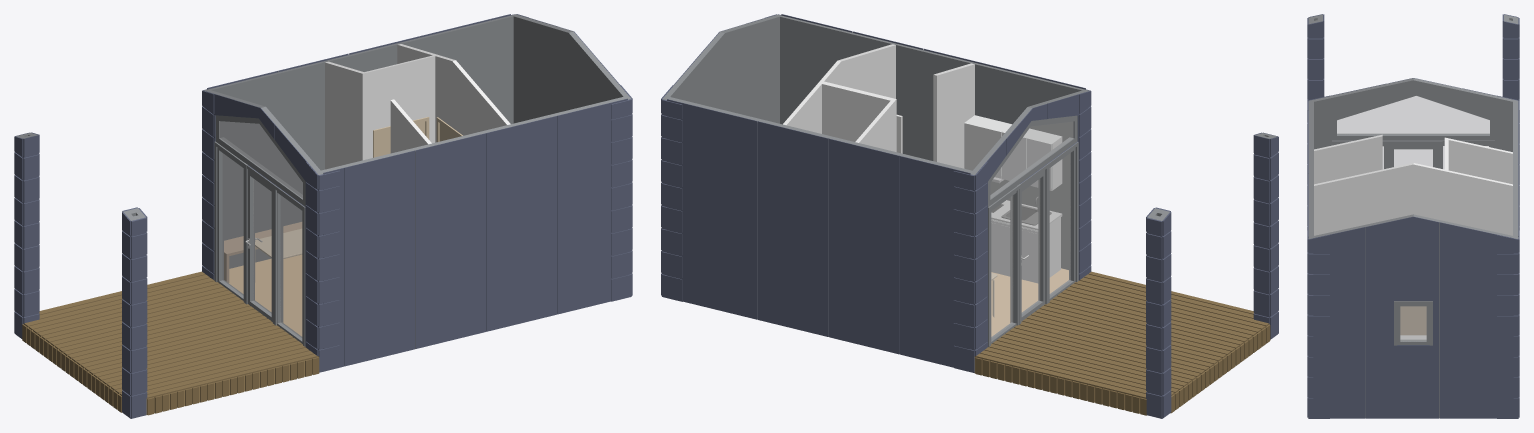
Rendered from Pirtys (3,2x8,0m) su terasa.fbx.
3 views of the same model, side by side, from view 1: azimuth 30°, elevation 25°; view 2: azimuth 150°, elevation 25°; view 3: azimuth 270°, elevation 25° (orthographic). The views are drawn at different scales.
Parts seen in each view (by area): view 1: IfcWallStandardCase/Basic Wall:Sandwich - isorines sienos 8. (×4), IfcBuildingElementProxy/Kampai Kvadratiniai - line based1:M. (×6), IfcPlate/System Panel:Sandwich užbaigimas Multisplit:3478437, IfcPlate/System Panel:Sandwich užbaigimas Multisplit:3478439, IfcPlate/System Panel:Sandwich užbaigimas Multisplit:3478441, IfcPlate/System Panel:Sandwich užbaigimas Multisplit:3478434, IfcWallStandardCase/Basic Wall:Sandwich - vidines sienos 60. (×2), IfcWindow/Langai (Akrusta):800x2100x80:3404889, IfcDoor/Durys išorinės:800x2100x80 (kairinės):3458927, IfcWindow/Langai (Akrusta):800x2100x80:3433472, IfcBuildingElementProxy/Kampai Kvadratiniai - line based1:Mu, IfcWallStandardCase/Basic Wall:Sandwich - vidines sienos 60 (+38 smaller); view 2: IfcWallStandardCase/Basic Wall:Sandwich - isorines sienos 8. (×4), IfcBuildingElementProxy/Kampai Kvadratiniai - line based1:M. (×7), IfcPlate/System Panel:Sandwich užbaigimas Multisplit:3478478, IfcPlate/System Panel:Sandwich užbaigimas Multisplit:3478476, IfcPlate/System Panel:Sandwich užbaigimas Multisplit:3478474, IfcPlate/System Panel:Sandwich užbaigimas Multisplit:3478471, IfcWindow/Langai (Akrusta):800x2100x80:3404889, IfcWindow/Langai (Akrusta):800x2100x80:3433472, IfcDoor/Durys išorinės:800x2100x80 (kairinės):3458927, IfcWallStandardCase/Basic Wall:Sandwich - vidines sienos 60. (×2), IfcWallStandardCase/Basic Wall:Sandwich - vidines sienos 60, IfcWindow/langas trapecija:langas trapecija:3435326 (+41 smaller); view 3: IfcPlate/System Panel:Sandwich užbaigimas Multisplit:3478457, IfcPlate/System Panel:Sandwich užbaigimas Multisplit:3478454, IfcBuildingElementProxy/Kampai Kvadratiniai - line based1:M. (×6), IfcWallStandardCase/Basic Wall:Sandwich - vidines sienos 60, IfcWallStandardCase/Basic Wall:Sandwich - isorines sienos 8. (×4), IfcPlate/System Panel:Sandwich užbaigimas Multisplit:3478459, IfcWindow/langas trapecija:langas trapecija:3435326, IfcWallStandardCase/Basic Wall:Sandwich - vidines sienos 60m, IfcWallStandardCase/Basic Wall:Sandwich - vidines sienos 60., IfcWindow/Langai (Akrusta):500x700x80 2:3404482, IfcDoor/Durys išorinės:800x2100x80 (kairinės):3458927, IfcDoor/Durys vidinės:800x2100 x 120 (dešininės):3461127 (+2 smaller).
Part boxes in pixels (x1,y1,x2,y2): IfcWallStandardCase/Basic Wall:Sandwich - isorines sienos 8. (×4): (204,14,630,348); IfcBuildingElementProxy/Kampai Kvadratiniai - line based1:M. (×6): (14,90,632,418); IfcPlate/System Panel:Sandwich užbaigimas Multisplit:3478437: (486,116,557,331); IfcPlate/System Panel:Sandwich užbaigimas Multisplit:3478439: (415,133,486,348); IfcPlate/System Panel:Sandwich užbaigimas Multisplit:3478441: (344,150,414,366); IfcPlate/System Panel:Sandwich užbaigimas Multisplit:3478434: (557,98,627,314); IfcWallStandardCase/Basic Wall:Sandwich - vidines sienos 60. (×2): (325,55,435,169); IfcWindow/Langai (Akrusta):800x2100x80:3404889: (214,141,247,304); IfcDoor/Durys išorinės:800x2100x80 (kairinės):3458927: (243,162,283,325); IfcWindow/Langai (Akrusta):800x2100x80:3433472: (272,184,305,346); IfcBuildingElementProxy/Kampai Kvadratiniai - line based1:Mu: (318,170,339,372); IfcWallStandardCase/Basic Wall:Sandwich - vidines sienos 60: (397,44,510,142); IfcWallStandardCase/Basic Wall:Sandwich - isorines sienos 8. (×4): (662,14,1089,336); IfcBuildingElementProxy/Kampai Kvadratiniai - line based1:M. (×7): (661,99,1278,418); IfcPlate/System Panel:Sandwich užbaigimas Multisplit:3478478: (686,104,757,319); IfcPlate/System Panel:Sandwich užbaigimas Multisplit:3478476: (758,121,828,336); IfcPlate/System Panel:Sandwich užbaigimas Multisplit:3478474: (829,138,899,354); IfcPlate/System Panel:Sandwich užbaigimas Multisplit:3478471: (900,156,970,371); IfcWindow/Langai (Akrusta):800x2100x80:3404889: (988,184,1021,347); IfcWindow/Langai (Akrusta):800x2100x80:3433472: (1045,142,1078,304); IfcDoor/Durys išorinės:800x2100x80 (kairinės):3458927: (1010,163,1049,325); IfcWallStandardCase/Basic Wall:Sandwich - vidines sienos 60. (×2): (822,81,896,151); IfcWallStandardCase/Basic Wall:Sandwich - vidines sienos 60: (783,44,895,133); IfcWindow/langas trapecija:langas trapecija:3435326: (988,115,1077,206); IfcPlate/System Panel:Sandwich užbaigimas Multisplit:3478457: (1365,216,1439,418); IfcPlate/System Panel:Sandwich užbaigimas Multisplit:3478454: (1440,222,1513,418); IfcBuildingElementProxy/Kampai Kvadratiniai - line based1:M. (×6): (1307,21,1519,418); IfcWallStandardCase/Basic Wall:Sandwich - vidines sienos 60: (1314,163,1512,235); IfcWallStandardCase/Basic Wall:Sandwich - isorines sienos 8. (×4): (1308,78,1518,418); IfcPlate/System Panel:Sandwich užbaigimas Multisplit:3478459: (1313,227,1364,418); IfcWindow/langas trapecija:langas trapecija:3435326: (1332,91,1494,140); IfcWallStandardCase/Basic Wall:Sandwich - vidines sienos 60m: (1314,134,1382,184); IfcWallStandardCase/Basic Wall:Sandwich - vidines sienos 60.: (1444,137,1512,184); IfcWindow/Langai (Akrusta):500x700x80 2:3404482: (1394,301,1432,345); IfcDoor/Durys išorinės:800x2100x80 (kairinės):3458927: (1384,140,1442,168); IfcDoor/Durys vidinės:800x2100 x 120 (dešininės):3461127: (1400,306,1426,335).
Size of the model in its own units: 804 by 341 by 324.
